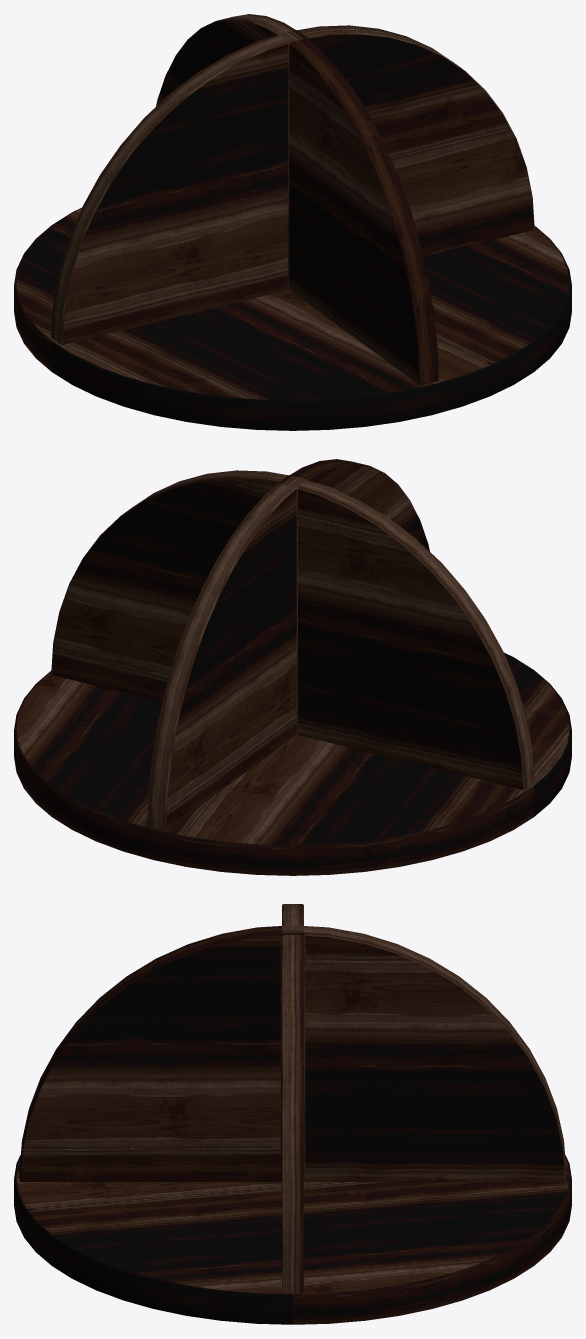
Rendered from table_colindr.FBX.
The picture shows the model from 3 angles, top to bottom: view 1: azimuth 30°, elevation 25°; view 2: azimuth 150°, elevation 25°; view 3: azimuth 270°, elevation 25°; orthographic projection.
Visible parts, largest first — view 1: table_colindr; view 2: table_colindr; view 3: table_colindr.
Boxes of the visible parts, x1,y1,x2,y2 form: table_colindr: [14, 14, 571, 430]; table_colindr: [14, 459, 571, 875]; table_colindr: [14, 904, 571, 1324].
Size of the model in its own units: 500 by 274 by 500.
Materials: 1 (1 with a texture image).
